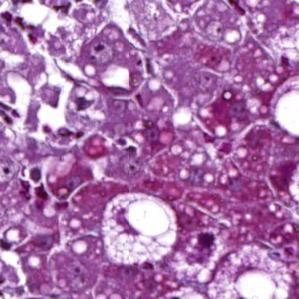ballooning: (100, 190, 178, 268), (205, 243, 291, 299)
